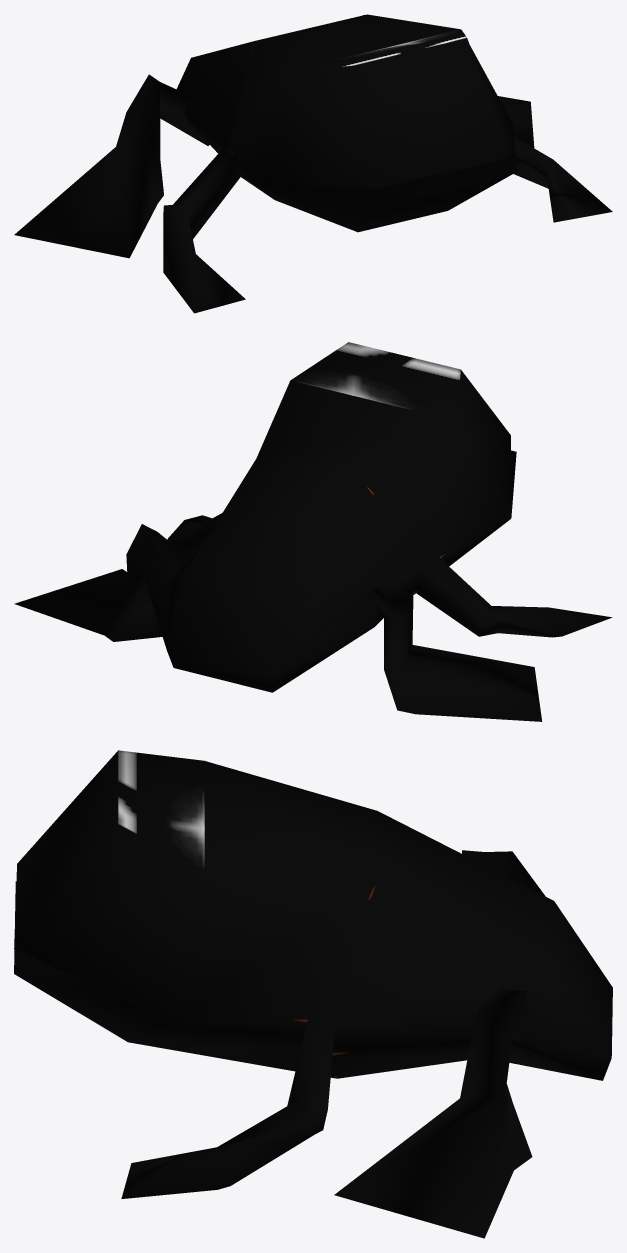
The picture shows the model from 3 angles, top to bottom: view 1: azimuth 30°, elevation 25°; view 2: azimuth 150°, elevation 25°; view 3: azimuth 270°, elevation 25°; orthographic projection. The views are drawn at different scales.
Visible parts, largest first — view 1: T1L2M005_5; view 2: T1L2M005_5; view 3: T1L2M005_5.
Part boxes in pixels (x1,y1,x2,y2): T1L2M005_5: (14, 14, 612, 313); T1L2M005_5: (14, 342, 612, 721); T1L2M005_5: (14, 750, 612, 1238).
Bounding box in the file's own units: 1.26 × 0.4966 × 0.9313.
